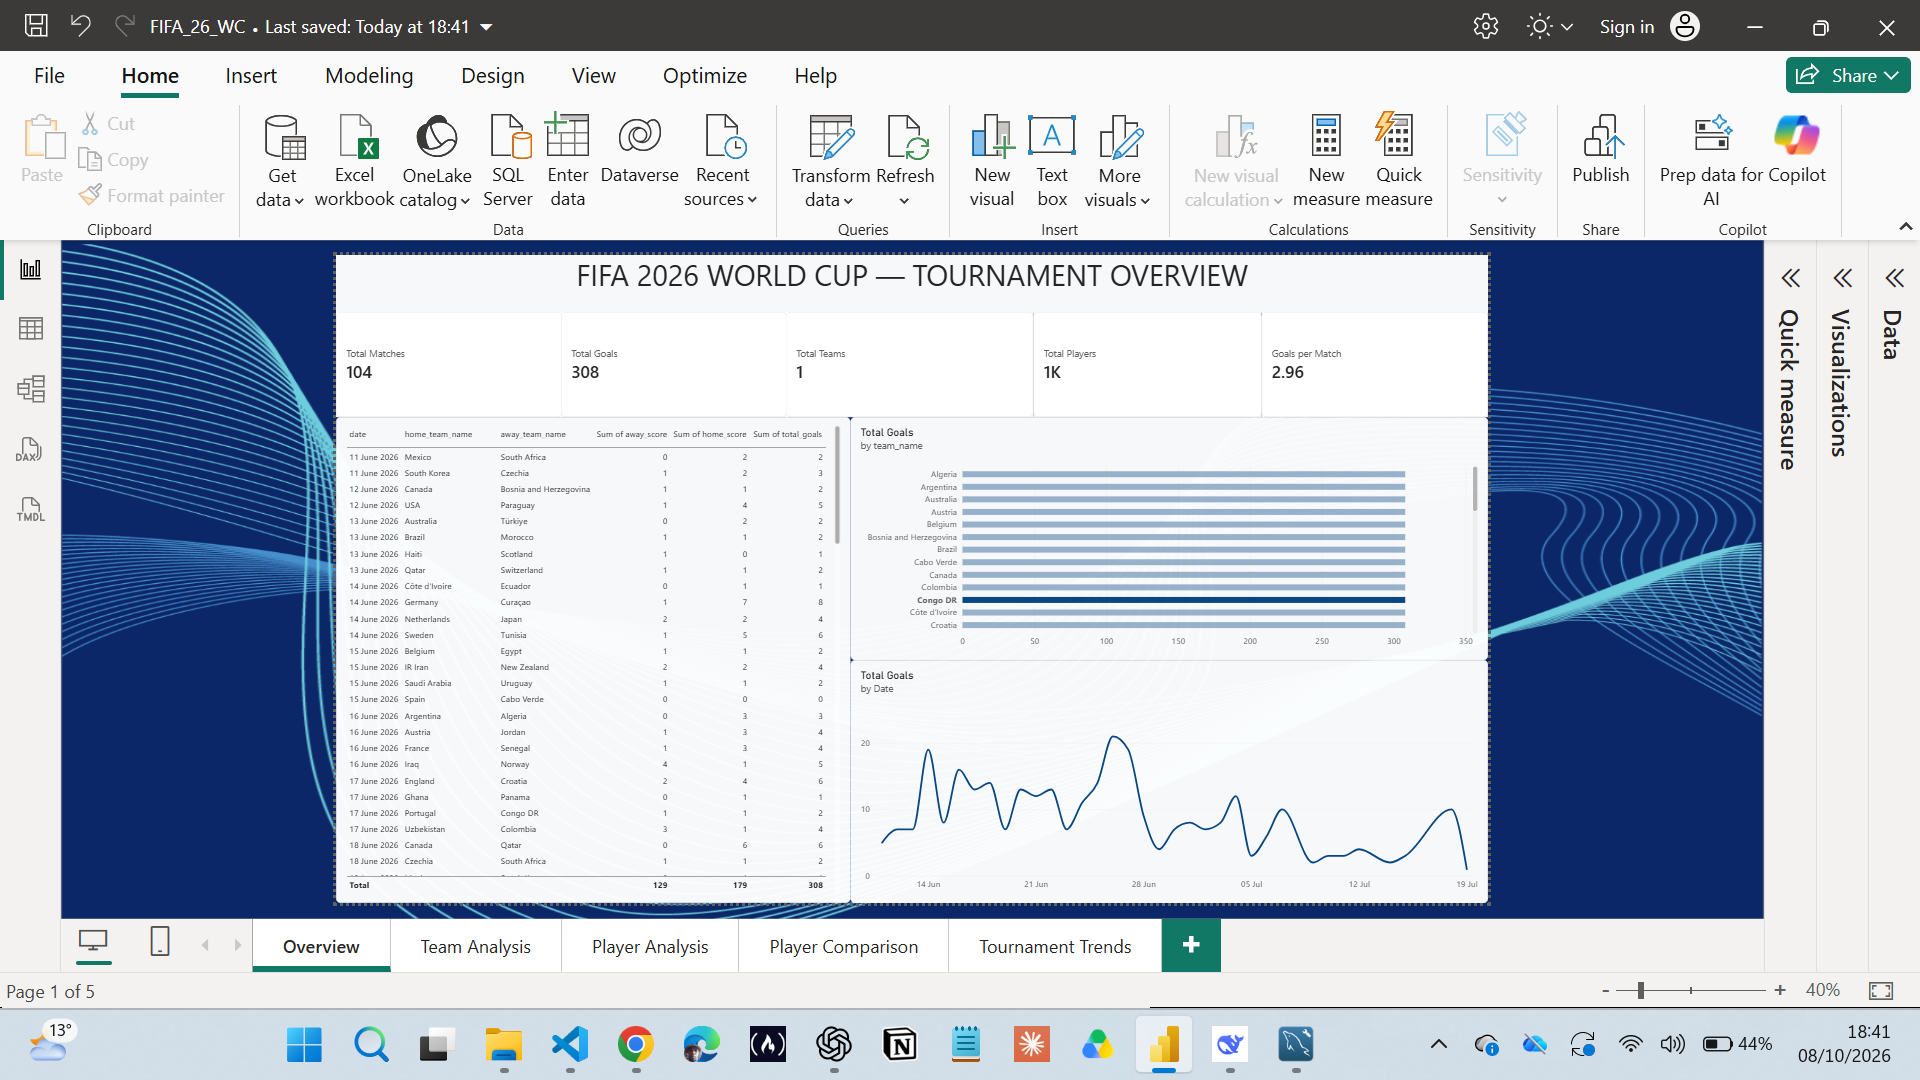

Layout of this report page (visuals, bound fields, positions):
{"tool":"powerbi","page":{"name":"Overview","canvas":[1920,1080],"ordinal":0},"visuals":[{"type":"cardVisual","fields":{"Data":["matches.Total Matches"]},"box":[0,95,377.5,175],"z":0},{"type":"cardVisual","fields":{"Data":["matches.Total Teams"]},"box":[750,95,412.5,175],"z":1000},{"type":"cardVisual","fields":{"Data":["matches.Total Players"]},"box":[1162.5,95,380,175],"z":2000},{"type":"cardVisual","fields":{"Data":["matches.Goals per Match"]},"box":[1542.5,95,377.5,175],"z":3000},{"type":"cardVisual","fields":{"Data":["matches.Total Goals"]},"box":[375,95,377.5,175],"z":4000},{"type":"clusteredBarChart","title":"Goals by Team","fields":{"Category":["teams.team_name"],"Y":["matches.Total Goals"]},"box":[857.5,270,1062.5,405],"z":5000},{"type":"lineChart","title":"Goals over Time","fields":{"Category":["Date.Date"],"Y":["matches.Total Goals"]},"box":[857.5,675,1062.5,405],"z":6000},{"type":"tableEx","title":"Tournament Match Results","fields":{"Values":["matches_detailed.date","matches_detailed.home_team_name","matches_detailed.away_team_name","Sum(matches_detailed.away_score)","Sum(matches_detailed.home_score)","Sum(matches_detailed.total_goals)"]},"box":[0,270,857.5,810],"z":7000},{"type":"textbox","box":[0,0,1920,95],"z":8000}]}

Visuals, with their boxes on the page's 1920x1080 design canvas (x1, y1, x2, y2). These are canvas units, not pixel positions in the 1920x1080 screenshot, which may show the page scaled, cropped or inside an application window:
cardVisual - matches.Total Matches: BBox(0, 95, 378, 270)
cardVisual - matches.Total Teams: BBox(750, 95, 1162, 270)
cardVisual - matches.Total Players: BBox(1162, 95, 1542, 270)
cardVisual - matches.Goals per Match: BBox(1542, 95, 1920, 270)
cardVisual - matches.Total Goals: BBox(375, 95, 752, 270)
"Goals by Team" clusteredBarChart: BBox(858, 270, 1920, 675)
"Goals over Time" lineChart: BBox(858, 675, 1920, 1080)
"Tournament Match Results" tableEx: BBox(0, 270, 858, 1080)
textbox: BBox(0, 0, 1920, 95)
